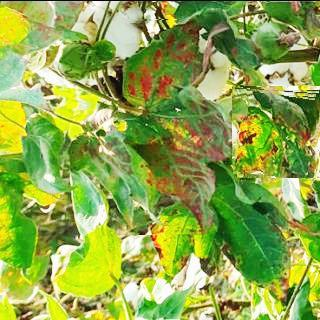blight: (116, 18, 243, 233), (232, 86, 320, 177)
